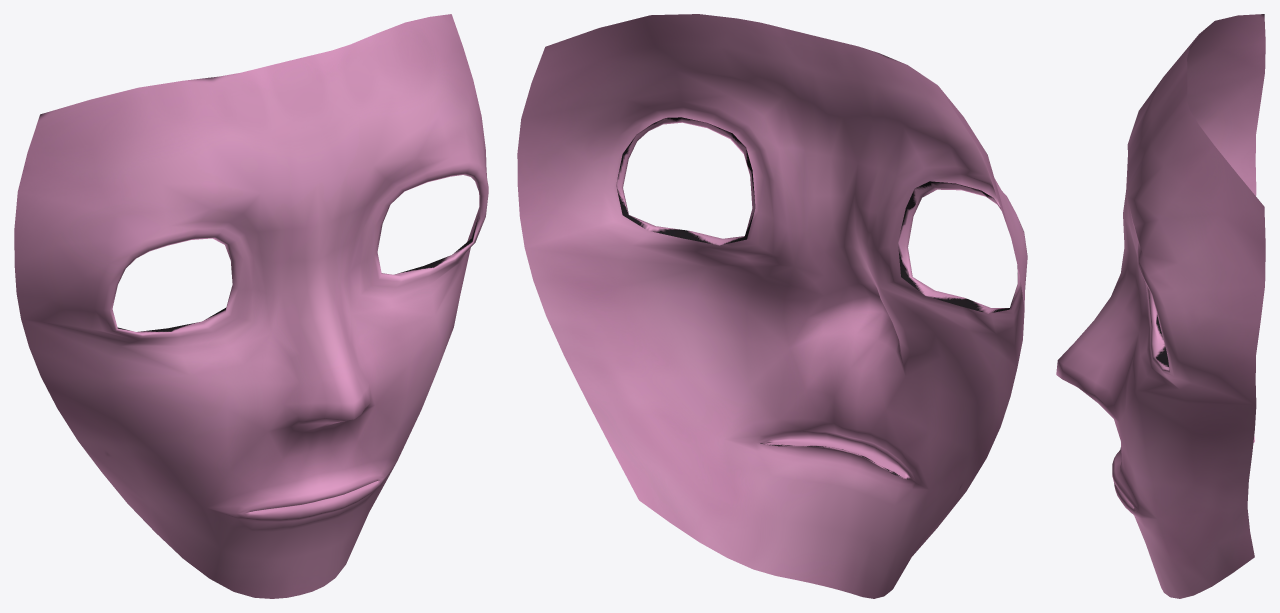
File: Lilian_face.obj
3 views of the same model, side by side, from view 1: azimuth 30°, elevation 25°; view 2: azimuth 150°, elevation 25°; view 3: azimuth 270°, elevation 25° (orthographic). The views are drawn at different scales.
Visible parts, largest first — view 1: Lilian_face; view 2: Lilian_face; view 3: Lilian_face.
Part boxes in pixels (x1,y1,x2,y2): Lilian_face: (14,14,488,598); Lilian_face: (517,14,1027,598); Lilian_face: (1056,14,1265,598).
Bounding box in the file's own units: 44.03 × 46.72 × 17.67.
